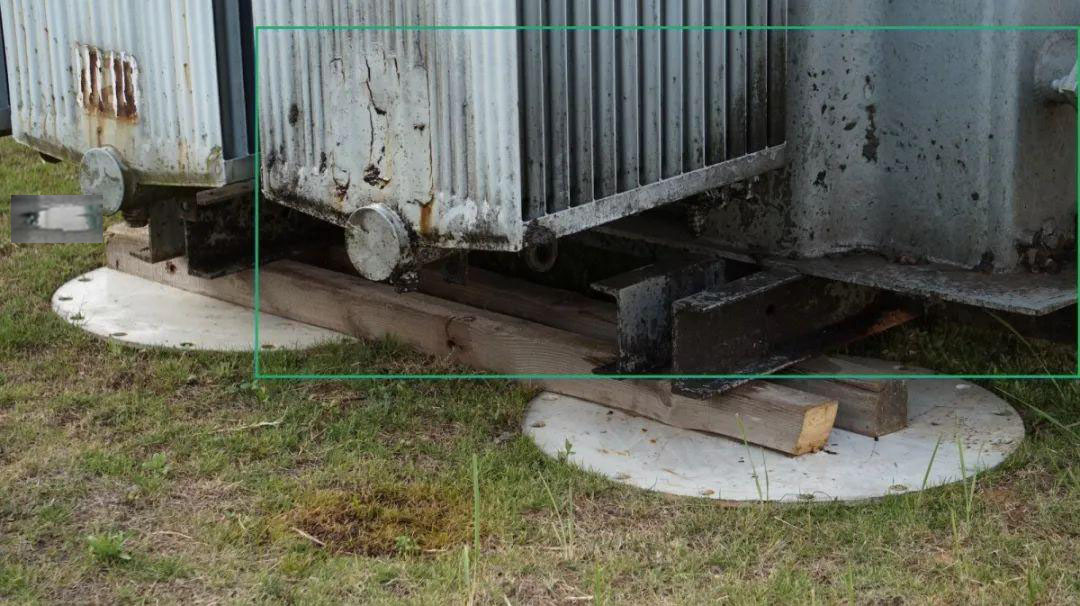oil: (515, 104, 779, 205)
